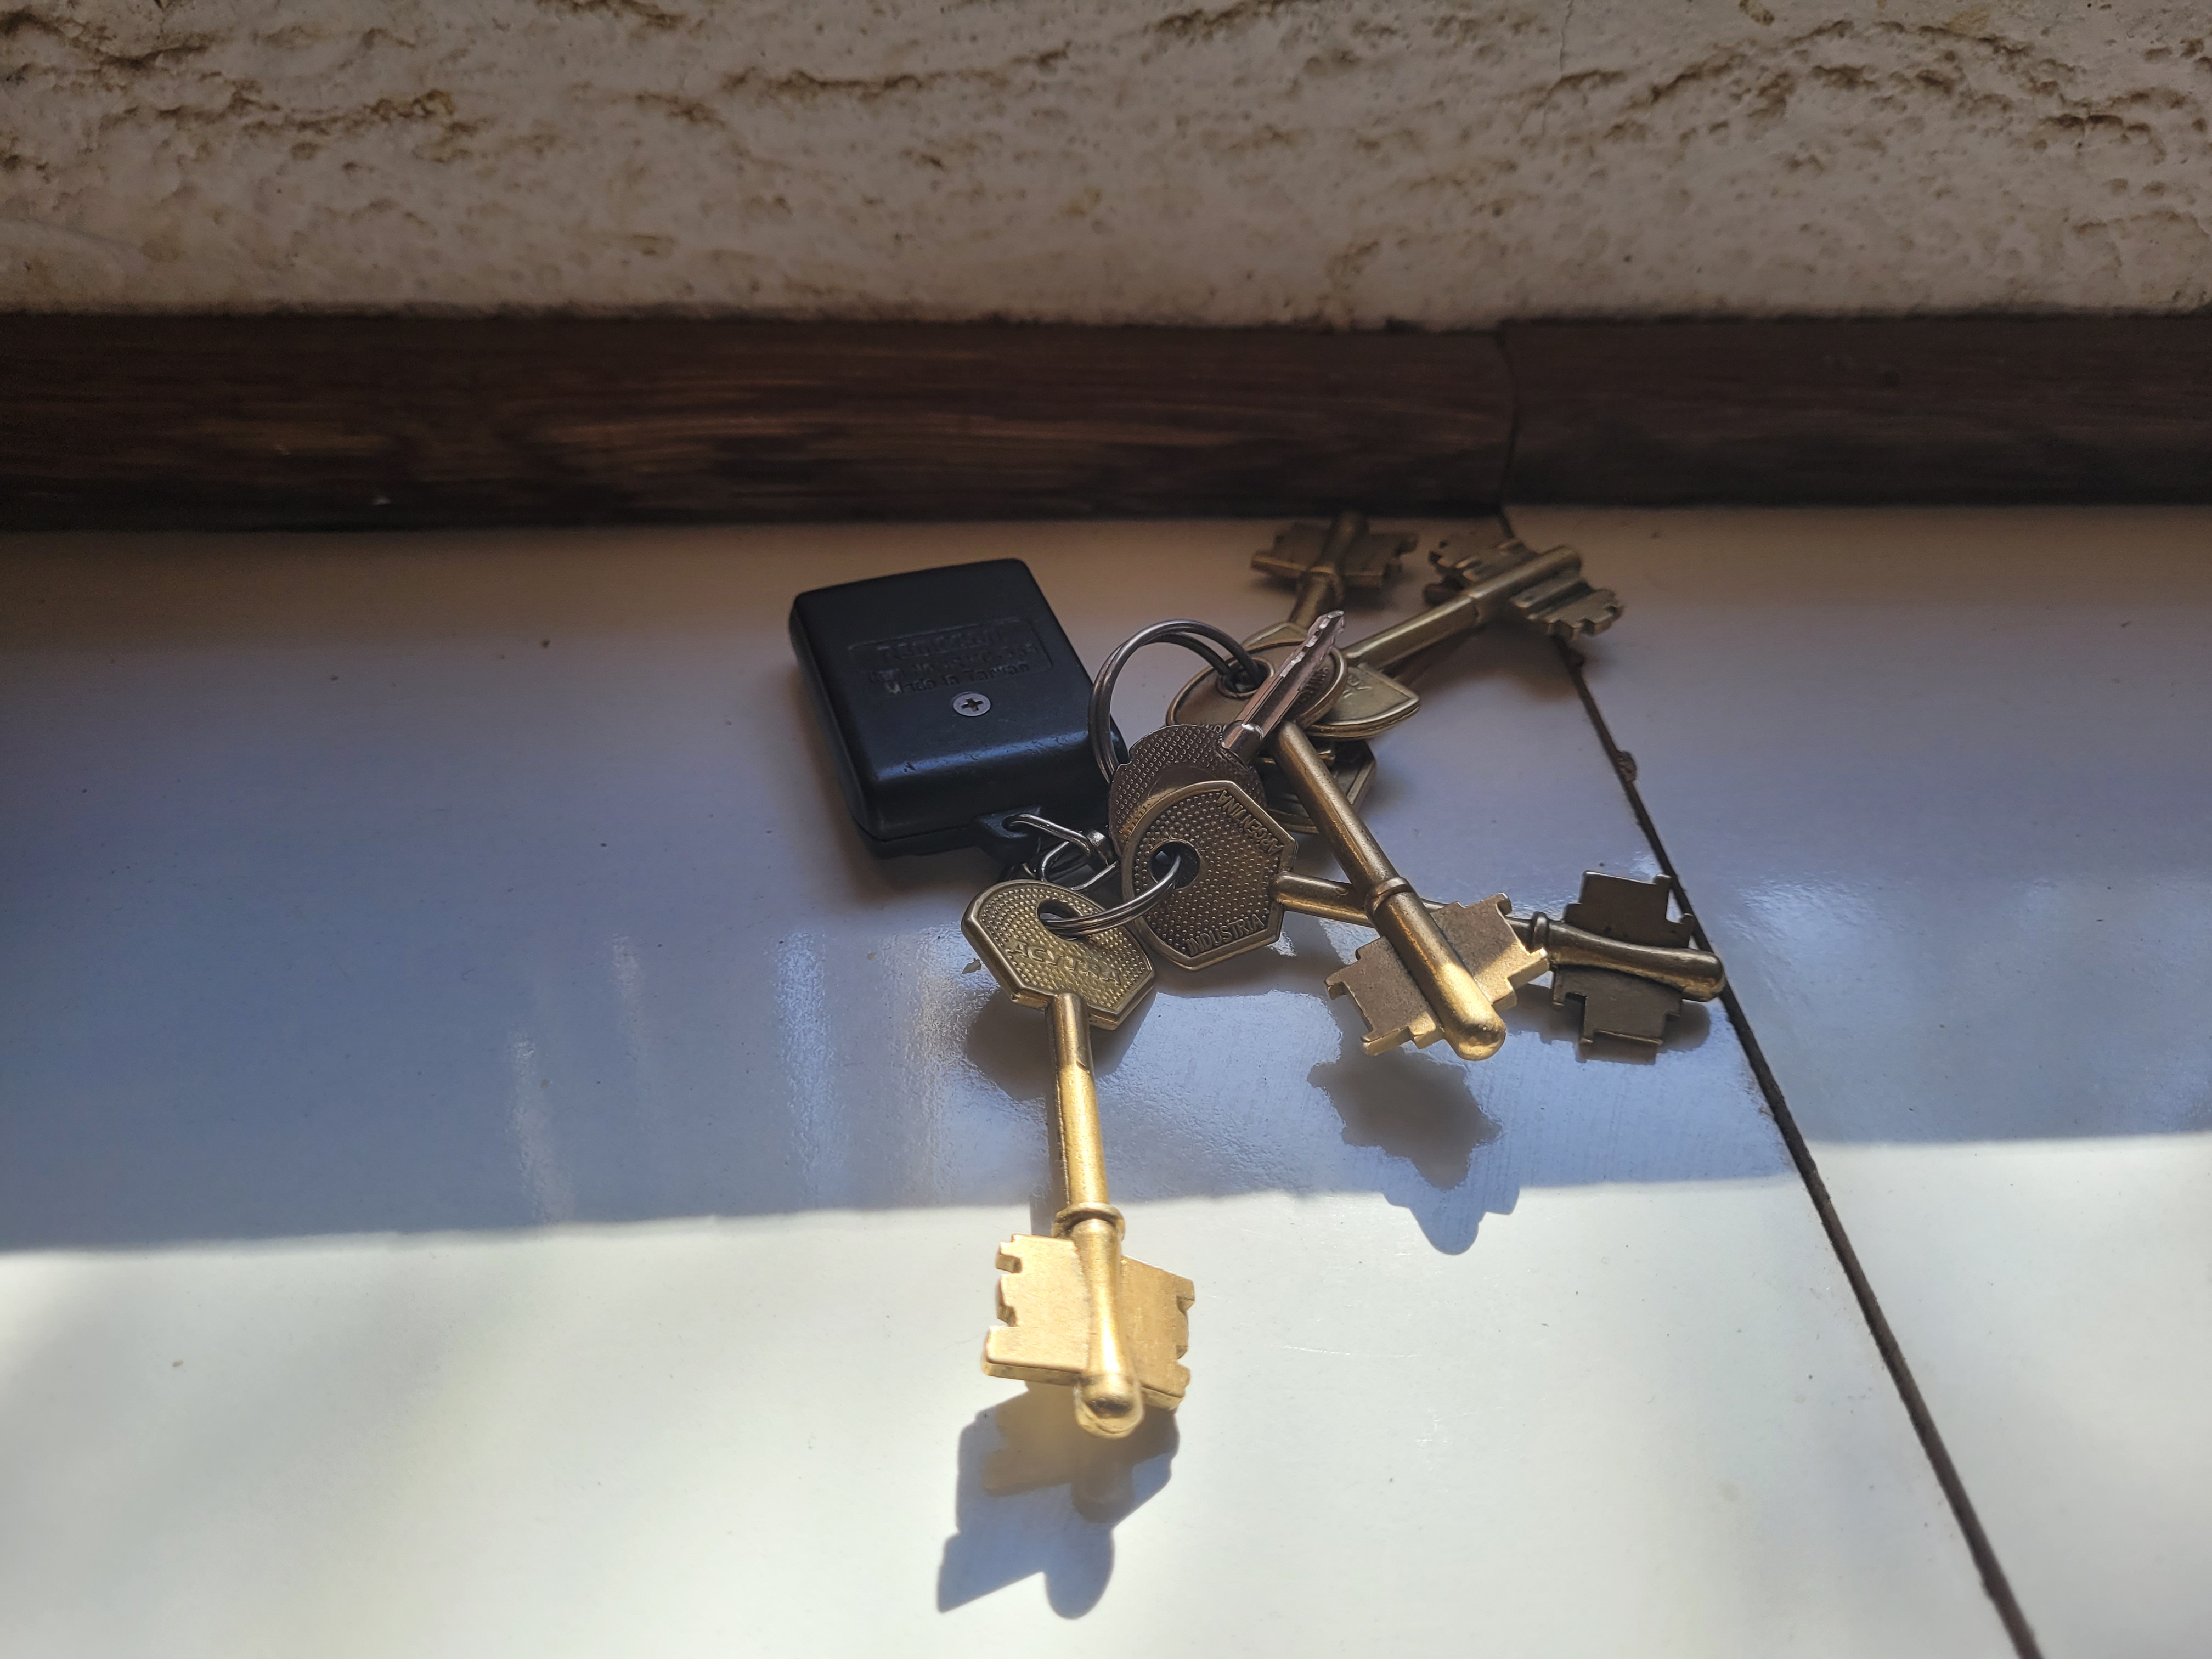llave: (786, 504, 1737, 1450)
